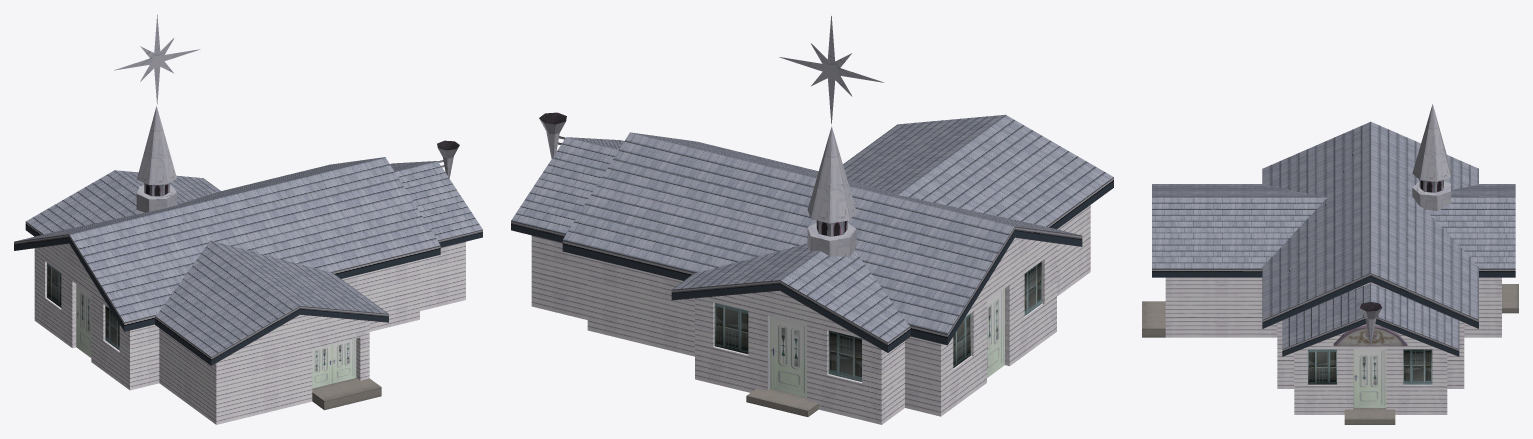
File: vgsnwedchap1.obj
The picture shows the model from 3 angles, left to right: view 1: azimuth 30°, elevation 25°; view 2: azimuth 150°, elevation 25°; view 3: azimuth 270°, elevation 25°; orthographic projection. The views are drawn at different scales.
Visible parts, largest first — view 1: vgsNwedchap1; view 2: vgsNwedchap1; view 3: vgsNwedchap1.
Part boxes in pixels (x1,y1,x2,y2): vgsNwedchap1: (14, 14, 482, 424); vgsNwedchap1: (511, 16, 1113, 424); vgsNwedchap1: (1142, 104, 1518, 424).
Bounding box in the file's own units: 18.77 × 13.52 × 16.09.
9 materials, 9 textured.
